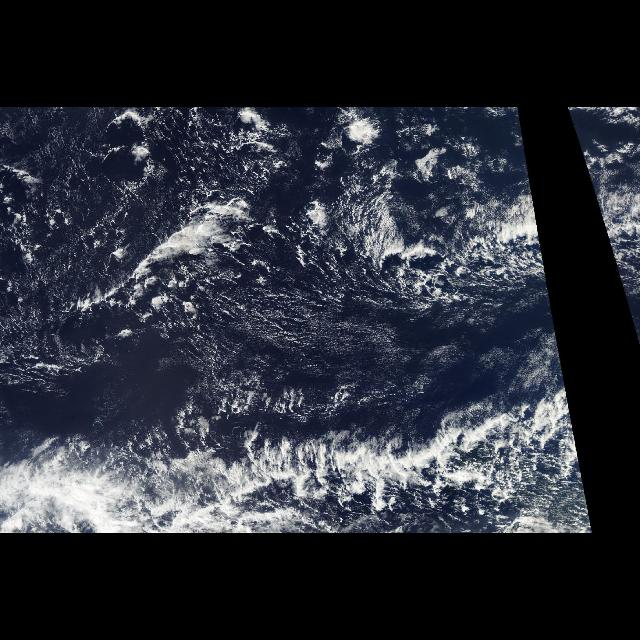Fish: (148, 394, 586, 532)
Sugar: (188, 268, 476, 410)
